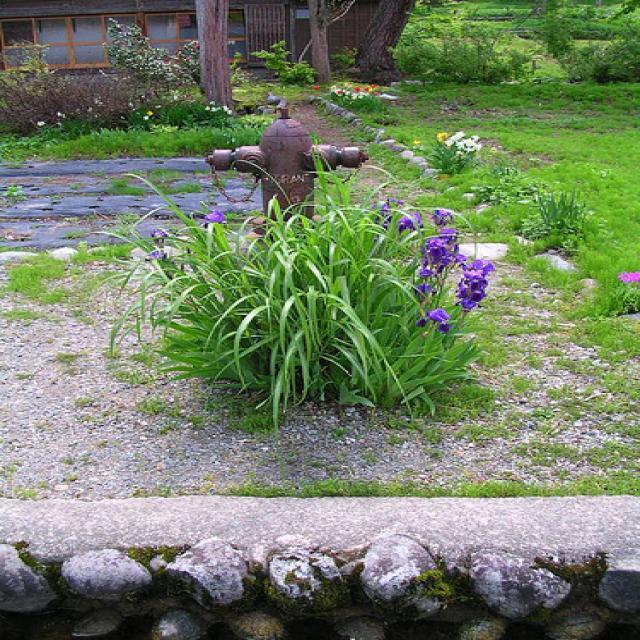fire_hydrant: (201, 96, 369, 218)
